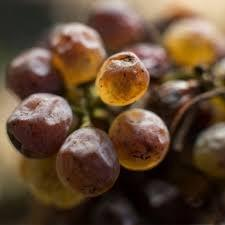Grape Overripe: (7, 93, 73, 158), (96, 52, 149, 106)
Grape Rotten: (4, 3, 225, 223)
